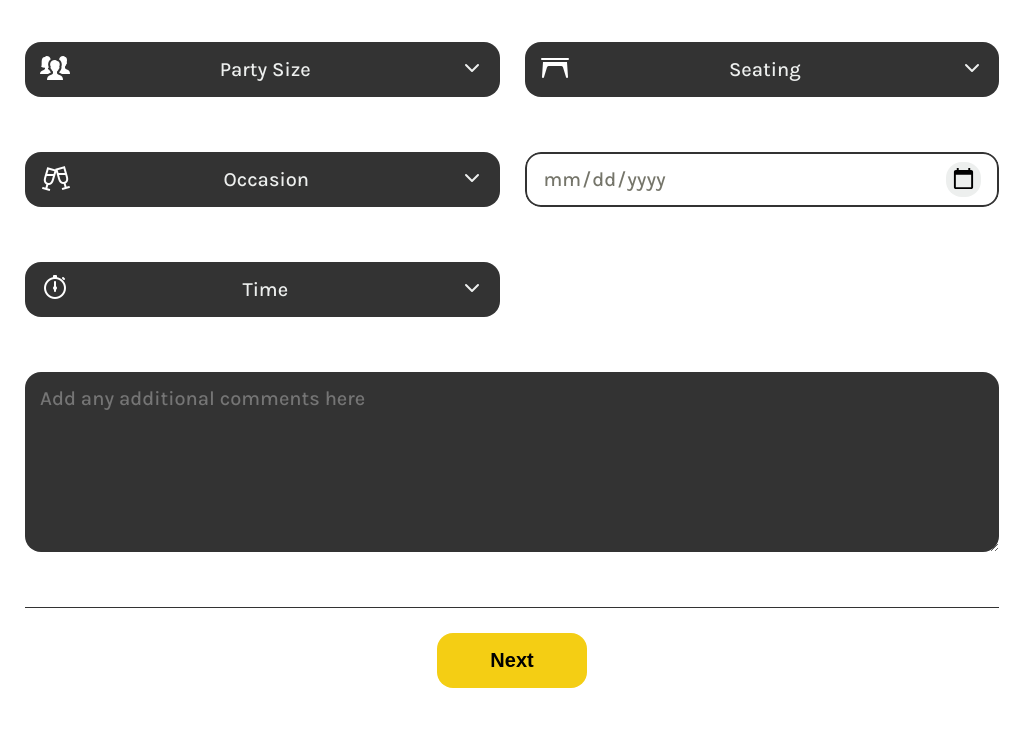
Test: First Name doesnt allow invalid characters
(page scrolled)
Click the button "Next": (512, 660) [437,633,587,688]
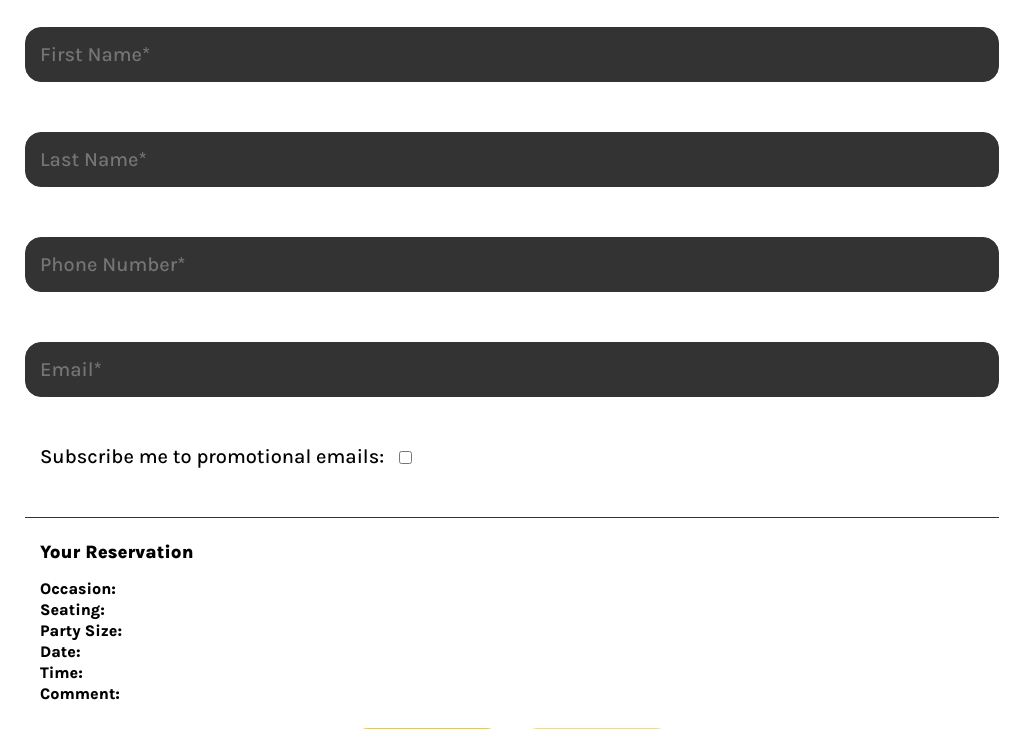
In the field with placeholder "First Name*": (512, 54) [25,27,999,82], type "123"
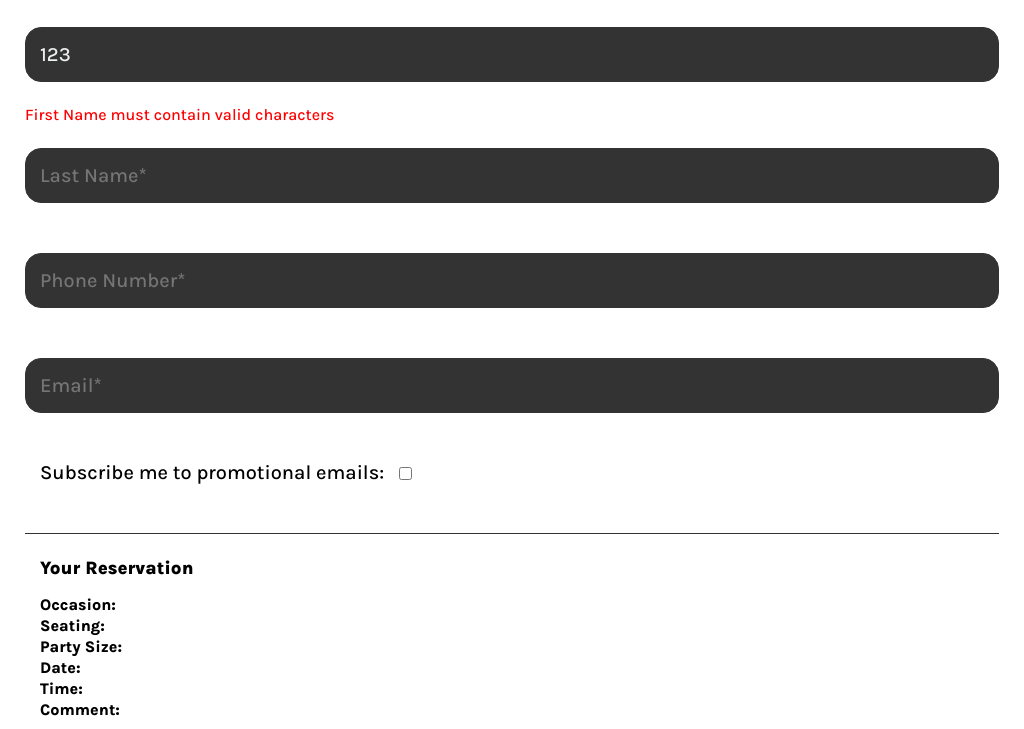
Expected: the text "First Name must contain valid characters" is shown, [25,107,334,123]
